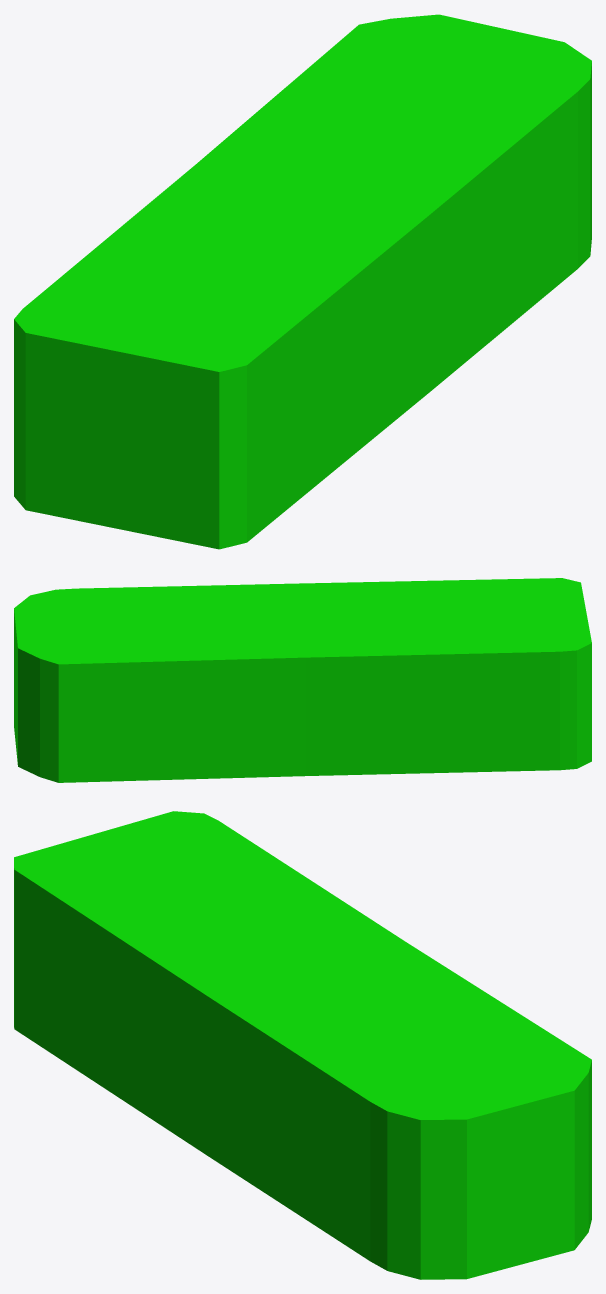
3 views of the same model, one above another, from view 1: azimuth 30°, elevation 25°; view 2: azimuth 150°, elevation 25°; view 3: azimuth 270°, elevation 25° (orthographic). The views are drawn at different scales.
Visible parts, largest first — view 1: Plane.001; view 2: Plane.001; view 3: Plane.001.
Part boxes in pixels (box(x1,y1,x2,y2)): Plane.001: box(14, 14, 591, 549); Plane.001: box(14, 578, 591, 782); Plane.001: box(14, 811, 591, 1279).
Size of the model in its own units: 3121 by 752 by 2467.
